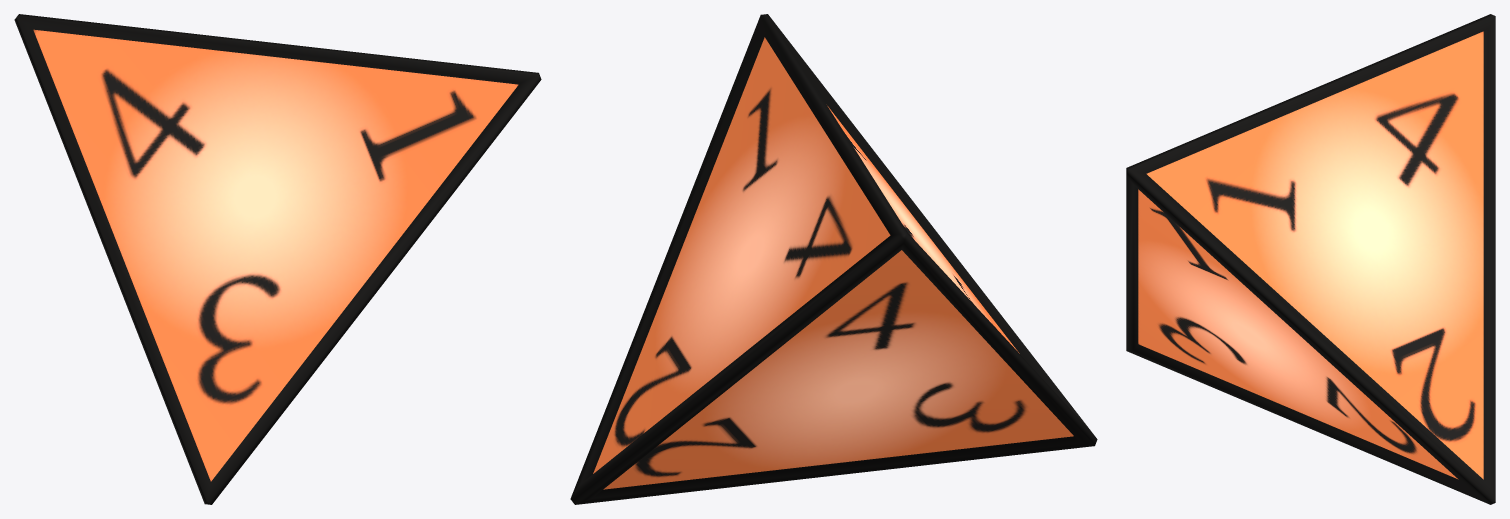
File: crucible_d4.glb
3 renders of one model, left to right at view 1: azimuth 30°, elevation 25°; view 2: azimuth 150°, elevation 25°; view 3: azimuth 270°, elevation 25°, orthographic. The views are drawn at different scales.
Parts seen in each view (by area): view 1: Mesh_0; view 2: Mesh_0; view 3: Mesh_0.
Part boxes in pixels (box(x1,y1,x2,y2)): Mesh_0: box(14, 14, 541, 504); Mesh_0: box(570, 14, 1097, 504); Mesh_0: box(1126, 14, 1495, 504).
Size of the model in its own units: 135 by 135 by 135.
1 material, 1 textured.
